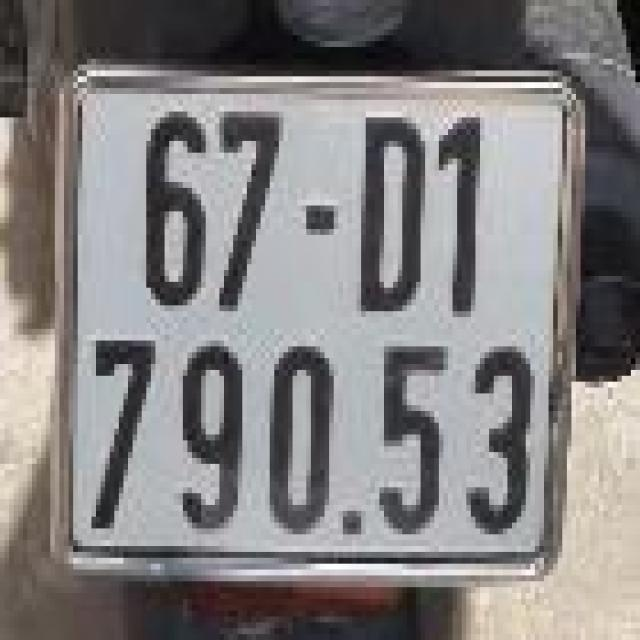0: (270, 323, 343, 546)
1: (430, 106, 503, 334)
3: (455, 338, 542, 543)
5: (370, 326, 453, 543)
6: (137, 106, 215, 323)
7: (213, 88, 290, 323), (73, 320, 151, 537)
9: (174, 329, 256, 546)
D: (352, 103, 434, 320)
